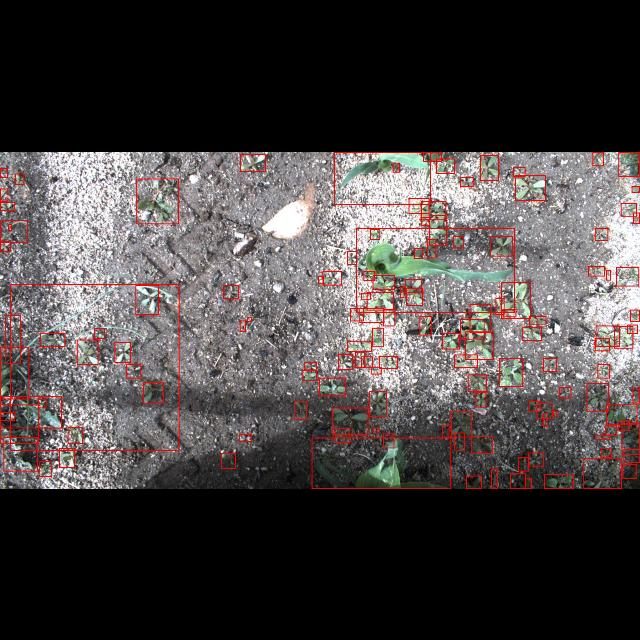crop: (356, 228, 514, 312), (312, 438, 451, 488), (334, 151, 430, 203)
weed: (11, 284, 180, 450), (1, 396, 62, 428), (136, 178, 178, 222), (1, 404, 39, 444), (1, 348, 30, 398), (3, 437, 37, 471), (583, 458, 621, 488), (502, 282, 530, 318), (332, 408, 368, 434), (465, 331, 493, 359), (515, 174, 545, 200), (6, 315, 20, 363), (136, 284, 158, 314), (500, 358, 522, 387), (0, 220, 28, 242), (586, 383, 608, 411), (607, 404, 637, 424), (470, 304, 490, 332), (618, 152, 640, 176), (76, 340, 98, 364), (622, 423, 638, 455), (429, 215, 446, 245), (318, 377, 346, 395), (366, 291, 394, 309), (451, 412, 472, 436), (460, 319, 484, 339), (480, 154, 498, 180), (420, 201, 446, 219), (490, 235, 512, 255), (596, 325, 618, 345), (614, 325, 634, 347), (616, 266, 638, 286), (544, 474, 574, 488), (240, 154, 266, 170), (369, 392, 386, 416), (143, 382, 163, 402), (472, 436, 492, 454), (40, 332, 64, 346), (360, 308, 384, 322), (454, 354, 478, 368), (468, 374, 486, 392), (115, 342, 131, 362), (372, 275, 393, 289), (407, 287, 423, 305), (442, 333, 460, 349), (60, 448, 74, 468), (322, 270, 342, 284), (409, 198, 429, 212), (522, 326, 542, 340), (536, 402, 552, 418), (404, 278, 422, 292), (436, 158, 454, 172), (347, 341, 371, 351), (68, 427, 82, 443), (221, 452, 235, 468), (334, 428, 350, 442), (338, 354, 352, 370), (510, 474, 526, 488), (528, 452, 544, 466), (379, 356, 397, 368), (295, 401, 307, 419), (372, 328, 383, 347), (621, 202, 637, 215), (426, 238, 436, 258), (127, 364, 141, 378), (224, 284, 238, 298), (622, 464, 636, 478), (466, 476, 482, 488), (384, 308, 394, 326), (420, 316, 430, 334), (454, 432, 464, 450), (594, 228, 608, 240), (598, 364, 610, 378), (624, 450, 638, 462), (595, 338, 609, 350), (40, 460, 50, 476), (588, 265, 604, 275), (351, 308, 364, 320), (423, 152, 441, 160), (544, 358, 556, 370), (593, 151, 603, 165), (384, 434, 394, 448), (303, 370, 317, 380), (476, 392, 486, 406), (518, 457, 528, 471), (461, 176, 474, 186), (530, 315, 546, 323), (496, 298, 504, 314), (348, 250, 357, 264), (491, 469, 497, 489), (1, 202, 16, 210), (1, 412, 16, 420), (528, 401, 540, 411), (618, 420, 630, 430), (356, 352, 364, 366), (632, 388, 640, 402), (454, 236, 464, 247), (0, 241, 10, 251), (94, 328, 104, 338), (362, 356, 372, 366), (364, 270, 374, 280), (370, 228, 380, 238), (560, 387, 570, 397), (606, 425, 616, 435), (601, 448, 611, 458), (630, 310, 640, 320), (627, 324, 637, 334), (0, 188, 8, 200), (240, 434, 252, 442), (305, 362, 317, 370), (442, 425, 450, 437), (514, 167, 524, 176), (596, 434, 610, 440), (502, 310, 516, 316), (16, 173, 24, 183), (371, 366, 381, 374), (414, 248, 422, 258), (38, 399, 46, 407), (421, 216, 429, 224), (240, 320, 246, 330), (633, 212, 639, 222), (525, 478, 531, 488), (1, 168, 8, 176), (543, 413, 547, 427), (362, 293, 371, 299), (632, 186, 640, 192), (393, 162, 399, 170), (607, 269, 611, 279), (400, 286, 404, 296), (318, 276, 324, 282), (8, 224, 12, 230), (373, 428, 379, 432), (553, 410, 557, 416), (248, 317, 252, 321)
